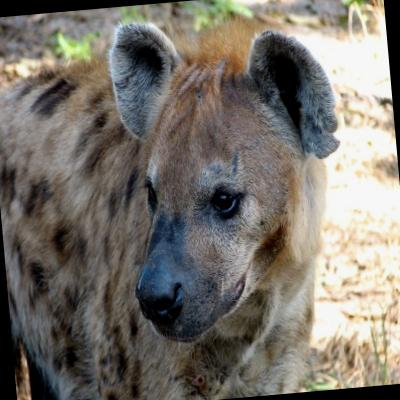hyenas: (0, 3, 398, 400)
